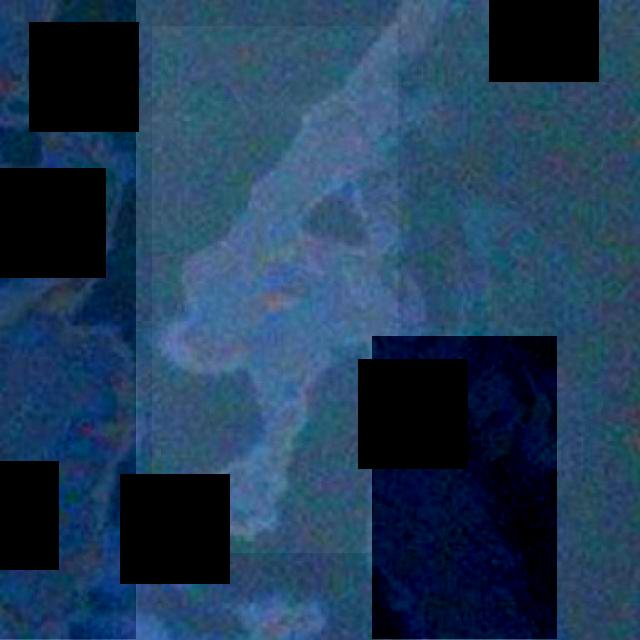oil spill: (153, 26, 398, 553), (0, 0, 136, 639), (372, 337, 557, 639)
